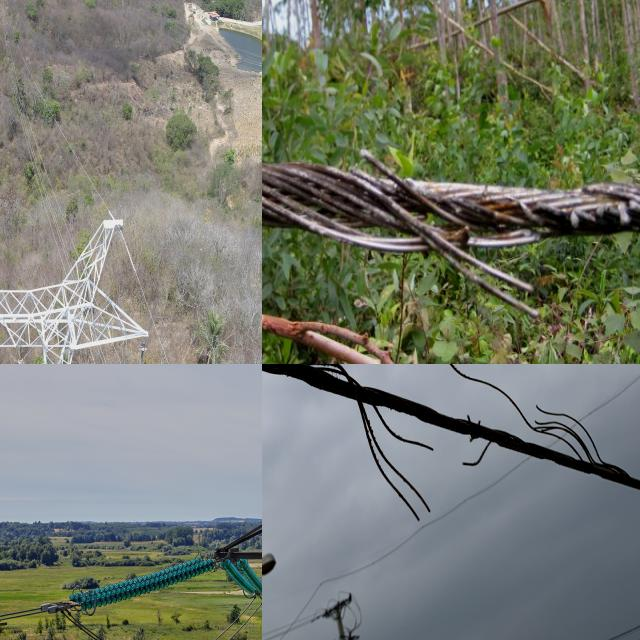杆塔: (0, 200, 154, 364)
正常电缆: (0, 593, 74, 634)
正常绝缘子: (70, 535, 237, 622), (205, 539, 262, 604), (129, 340, 151, 364)
电缆破损: (262, 132, 640, 303), (262, 364, 640, 532)
